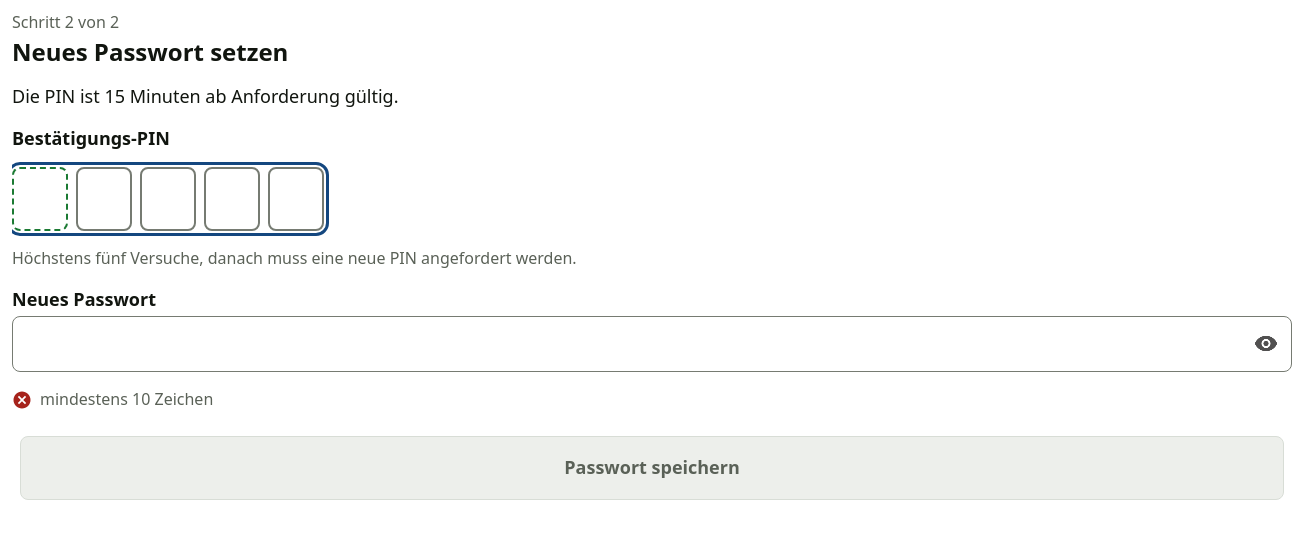
it: PasswortNeu › Fehler › 401 RESET_PIN_FALSCH ist kein Sitzungsende
In the field with test id "reset-pin-feld": (168, 199) [12, 167, 324, 231], type "12345"
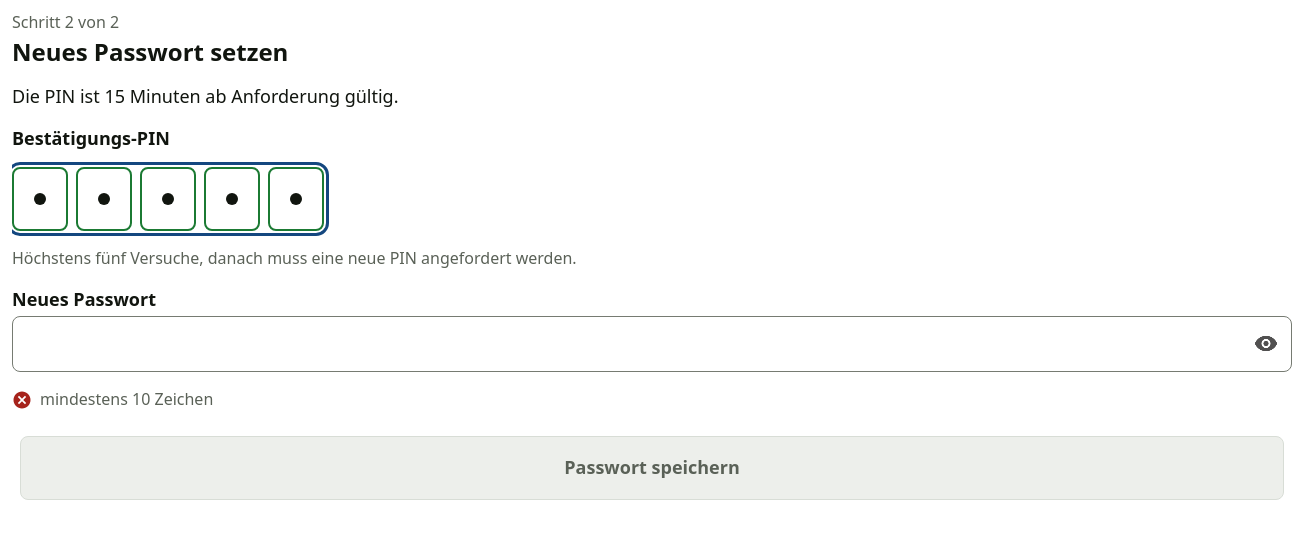
In the password field with test id "passwort-neu-passwort": (652, 344) [12, 316, 1292, 372], type "beispiel-passwort-02"
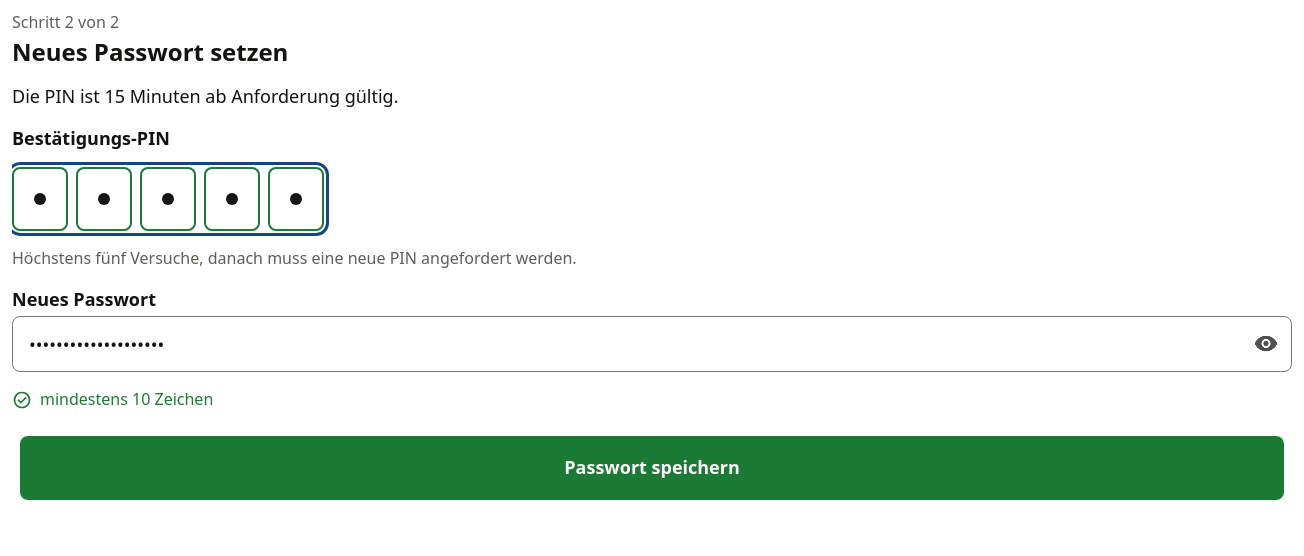
Click the button with test id "passwort-neu-absenden": (652, 468) [20, 436, 1284, 500]
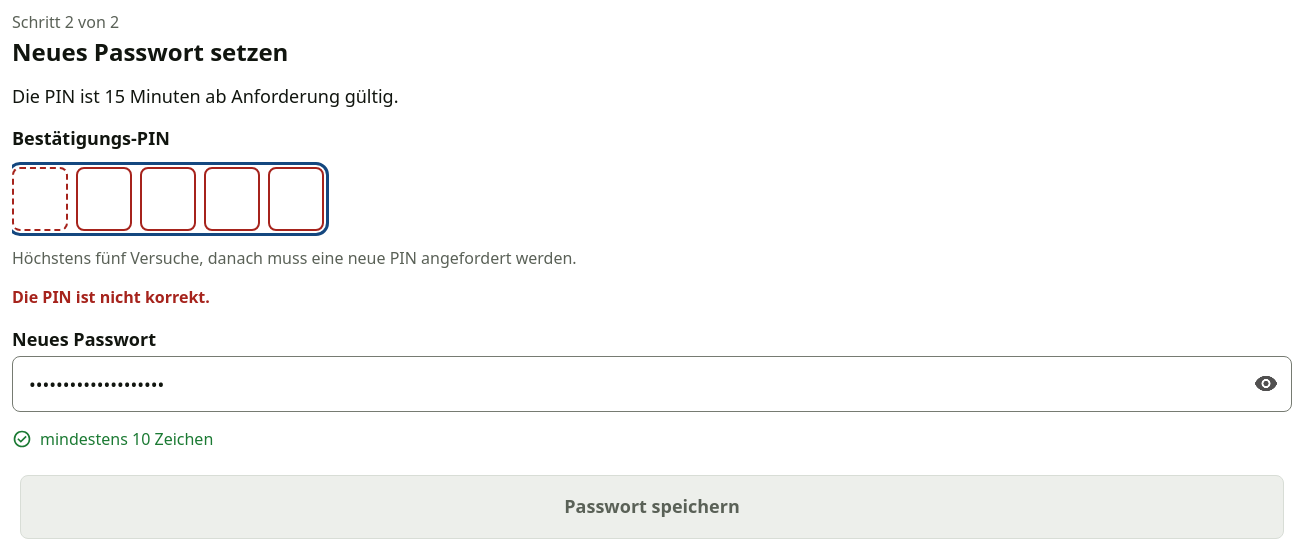
Result: the text "Die PIN ist nicht korrekt." is shown at [12, 286, 210, 310]
